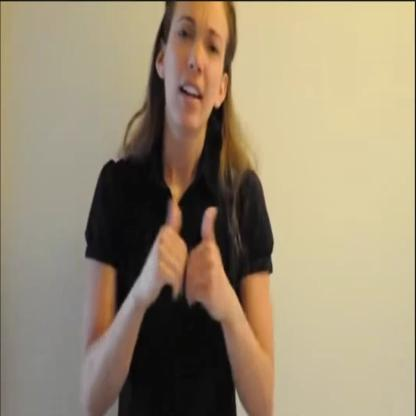HowAreYou: (118, 186, 254, 349)
